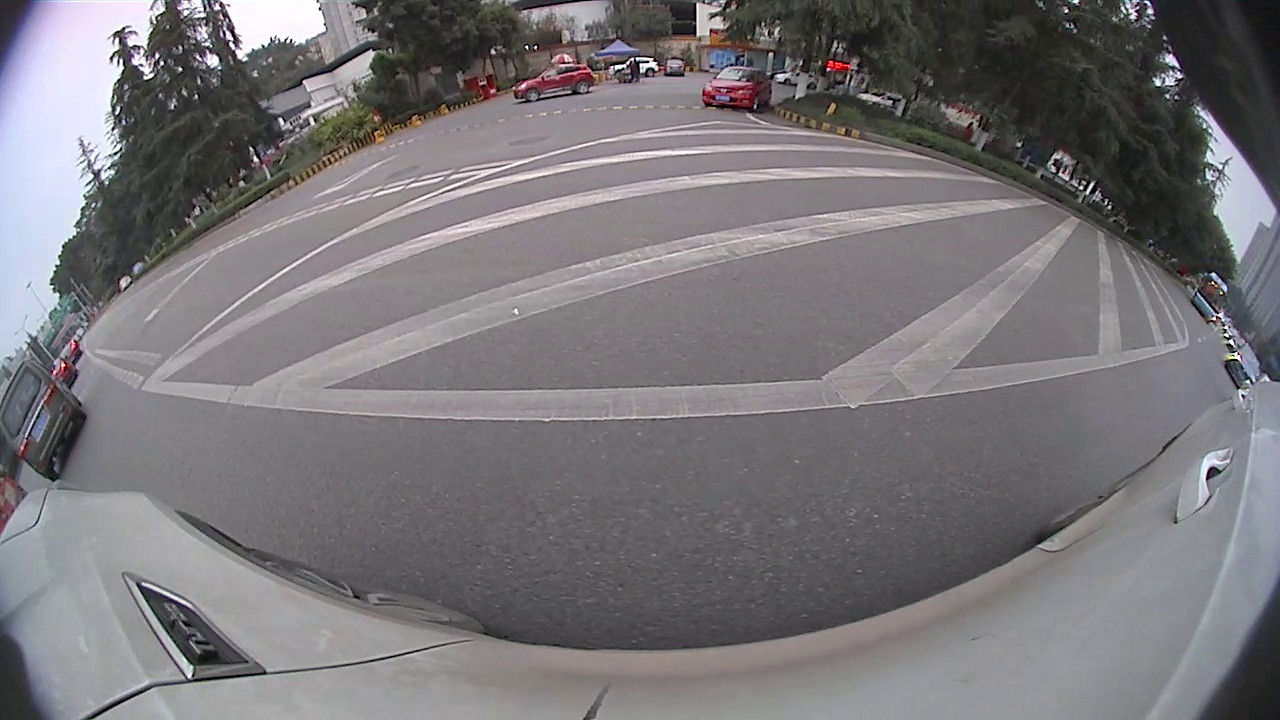bus: (1191, 263, 1234, 321)
car: (1, 356, 90, 483), (698, 60, 776, 116), (508, 56, 604, 101), (1223, 334, 1266, 390)
front: (526, 88, 541, 102), (752, 95, 760, 110)
rear: (574, 79, 590, 95)
